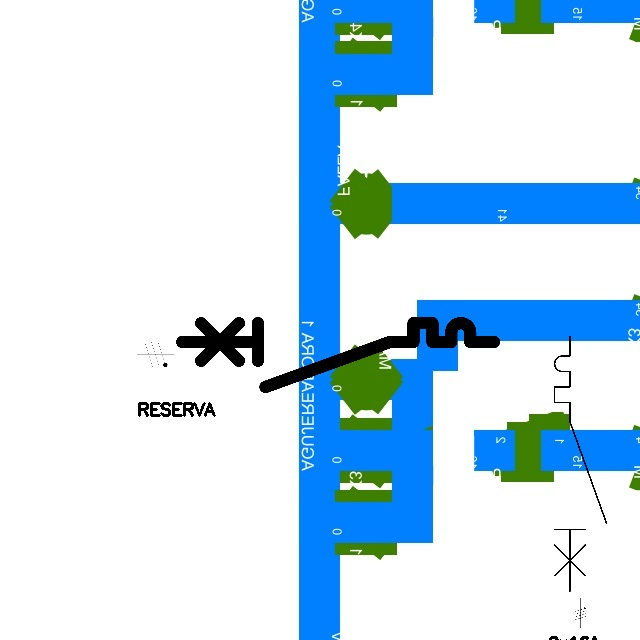interruptor_termomagnetico: (174, 315, 502, 395), (548, 330, 613, 597)
